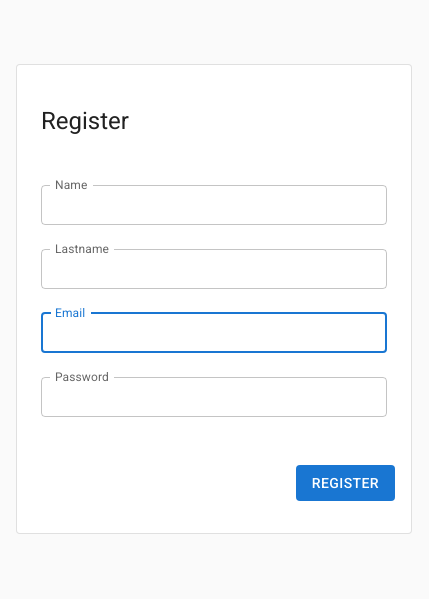
Test: RegisterForm › should display validation error for short password
Type "12345" into the password field named "password" at (214, 397), box [41, 377, 387, 417]
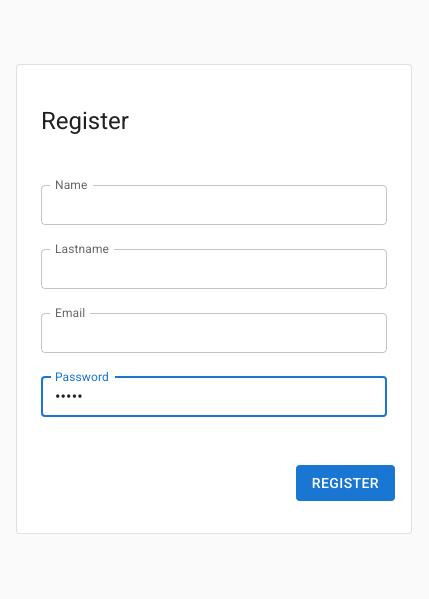
Click the submit button at (346, 484), box [296, 465, 395, 502]
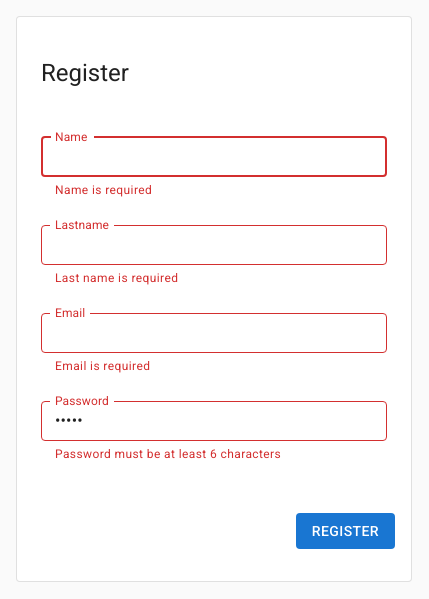
Expected: the text "Password must be at least 6 characters" is shown, [55, 447, 281, 461]
